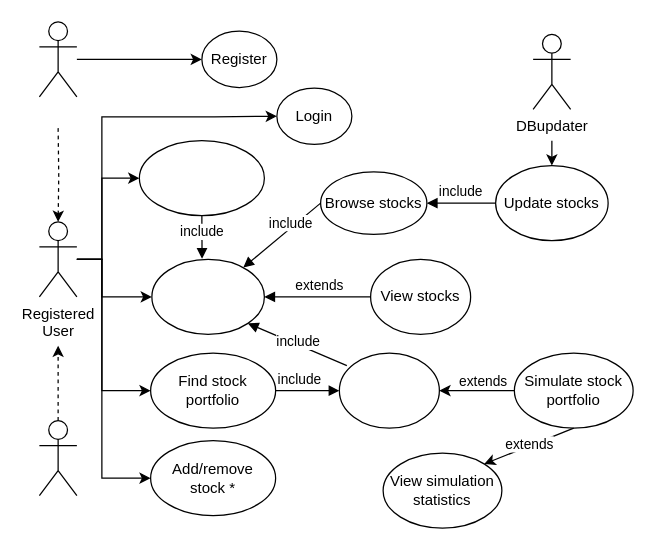
Image size: 655x550. Some labels were removed from this diagram. Here are the shapes that lost their labels. From the top down, the box of each, then its label:
(38, 21, 77, 97): Guest
(138, 139, 264, 216): Create stock portfolio
(151, 258, 264, 334): Find stocks
(338, 352, 439, 428): View stock portfolio
(38, 419, 77, 496): Admin (*)
